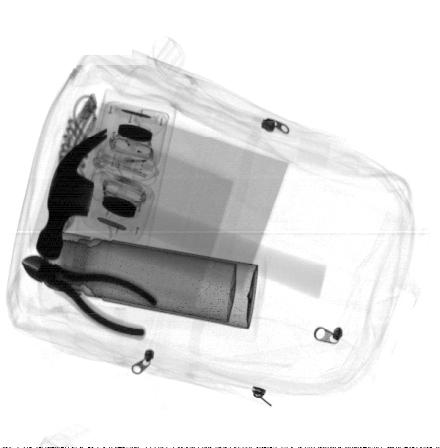Hammer: (36, 128, 328, 300)
Pliers: (20, 255, 158, 339)
